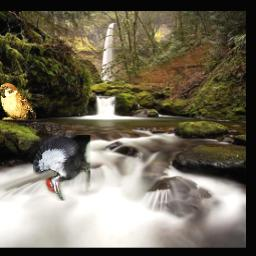Sparrow: (0, 83, 36, 121)
Woodpecker: (34, 136, 91, 201)
